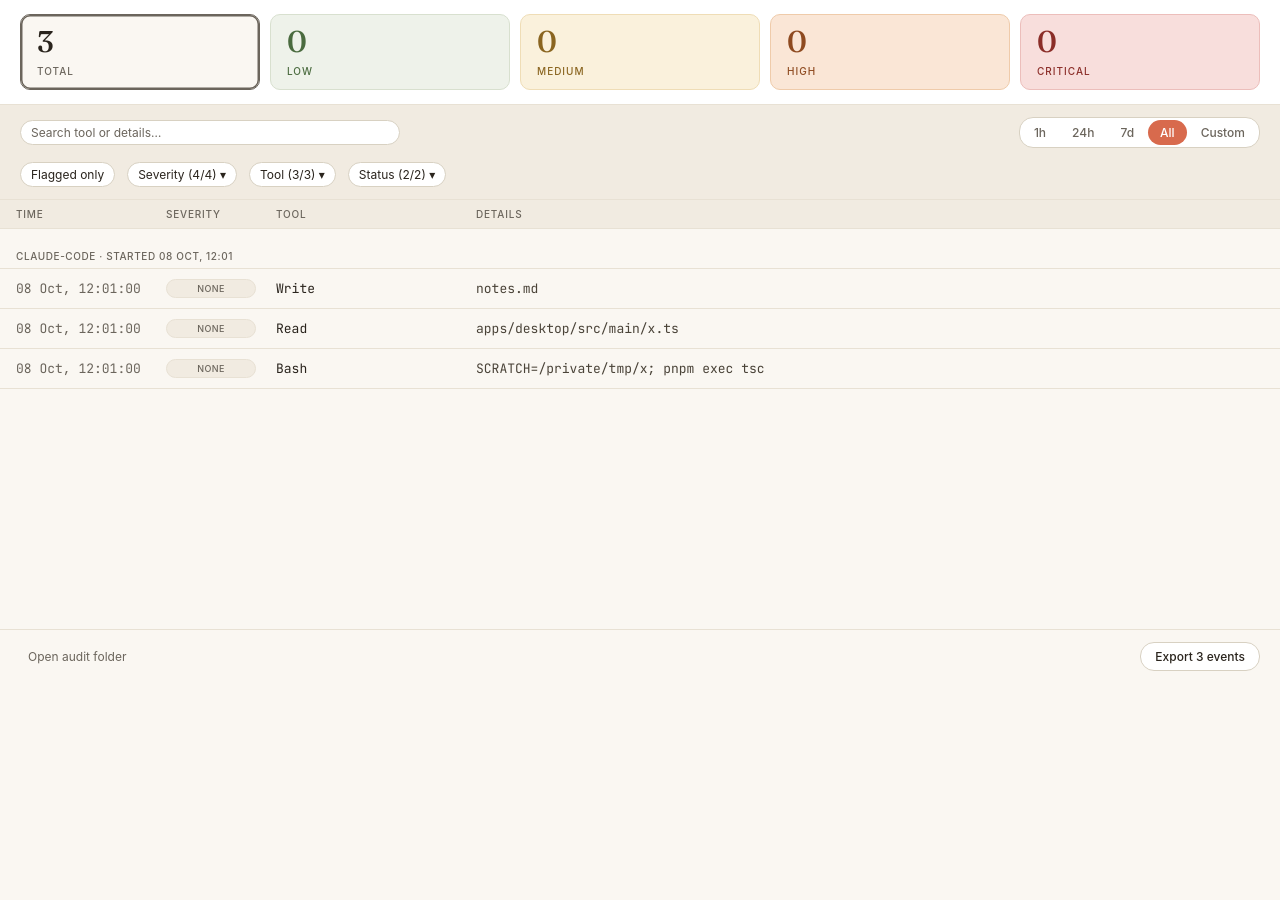
Test: search end-to-end repro (incidencia A) › typing "scratch" filters the visible list down to the SCRATCH row
Expected: the text "notes.md" is shown, [476,280,538,297]
Type "scratch" into the search field labelled "Search tool or details" at (210,132), box [20,120,400,145]
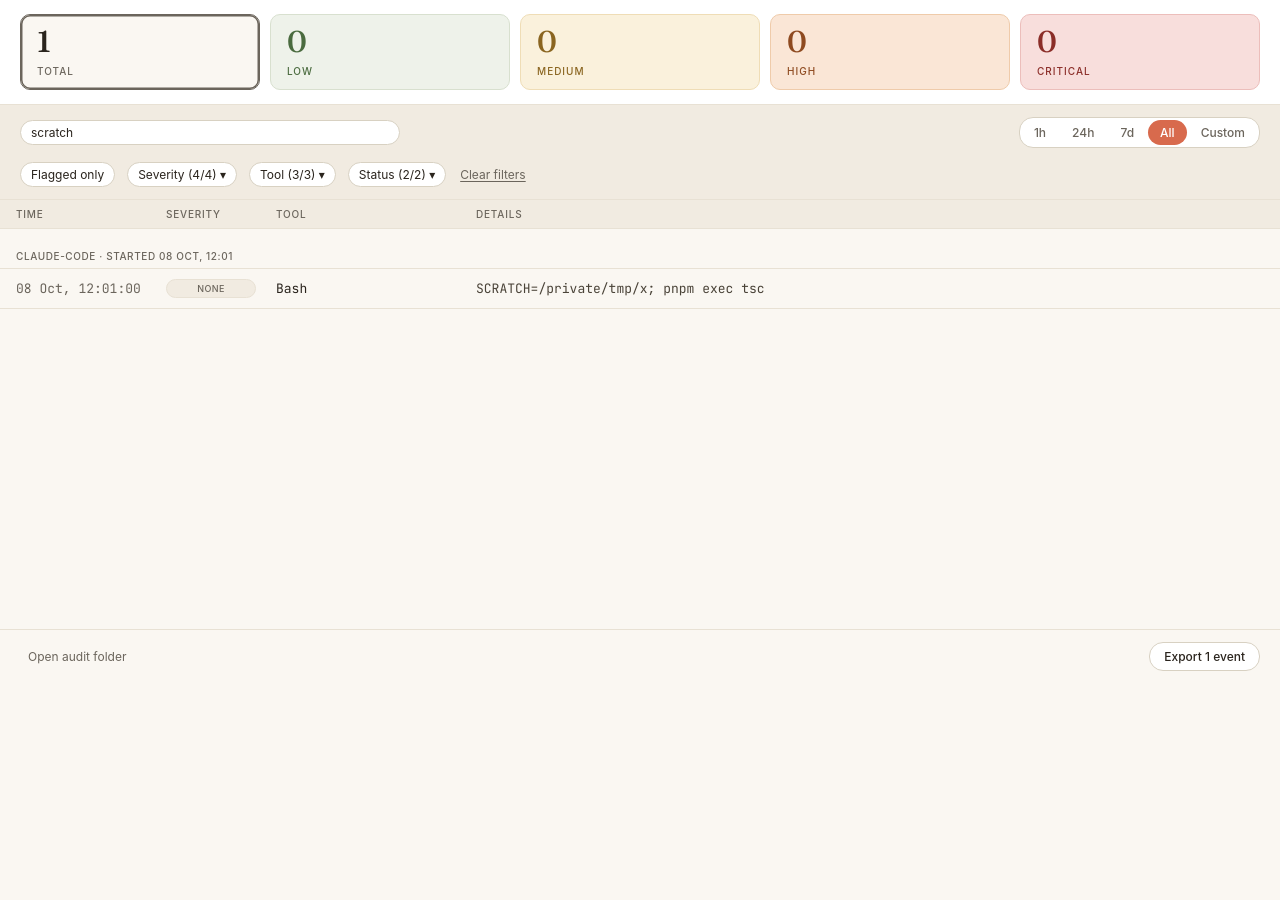
Expected: the text "SCRATCH=/private/tmp/x; pnpm exec tsc" is shown, [476,280,765,297]
Expected: the button "notes.md" is gone
